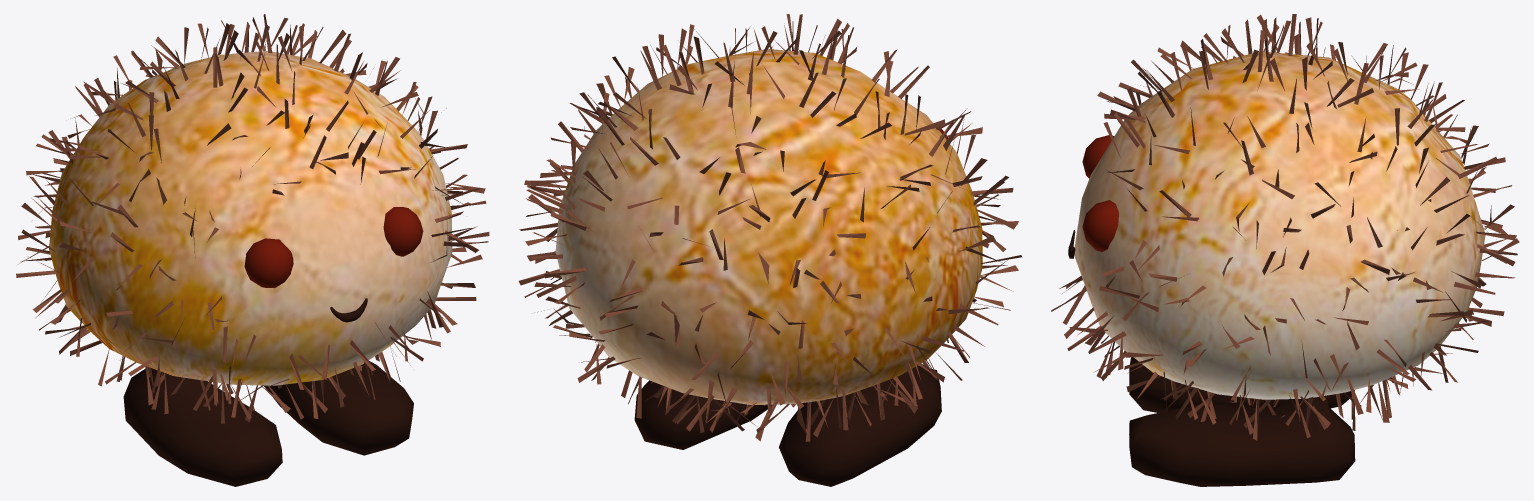
Rendered from BlockDog.glb.
3 views of the same model, side by side, from view 1: azimuth 30°, elevation 25°; view 2: azimuth 150°, elevation 25°; view 3: azimuth 270°, elevation 25° (orthographic). The views are drawn at different scales.
Parts seen in each view (by area): view 1: Body, Hair_Lv1, Feet_Big, Eye01, Eye02; view 2: Body, Hair_Lv1, Feet_Big; view 3: Body, Hair_Lv1, Feet_Big, Eye02, Eye01.
Part boxes in pixels (x1=…): Body: x1=49, y1=51, x2=452, y2=385; Hair_Lv1: x1=16, y1=14, x2=489, y2=423; Feet_Big: x1=123, y1=361, x2=413, y2=486; Eye01: x1=244, y1=238, x2=293, y2=288; Eye02: x1=383, y1=207, x2=423, y2=256; Body: x1=555, y1=49, x2=982, y2=404; Hair_Lv1: x1=518, y1=14, x2=1022, y2=441; Feet_Big: x1=634, y1=365, x2=941, y2=486; Body: x1=1074, y1=51, x2=1485, y2=399; Hair_Lv1: x1=1051, y1=14, x2=1519, y2=440; Feet_Big: x1=1129, y1=357, x2=1355, y2=486; Eye02: x1=1082, y1=200, x2=1118, y2=252; Eye01: x1=1082, y1=135, x2=1114, y2=178.
Bounding box in the file's own units: 1.28 × 1.12 × 1.2.
Materials: 2 (2 with a texture image).
